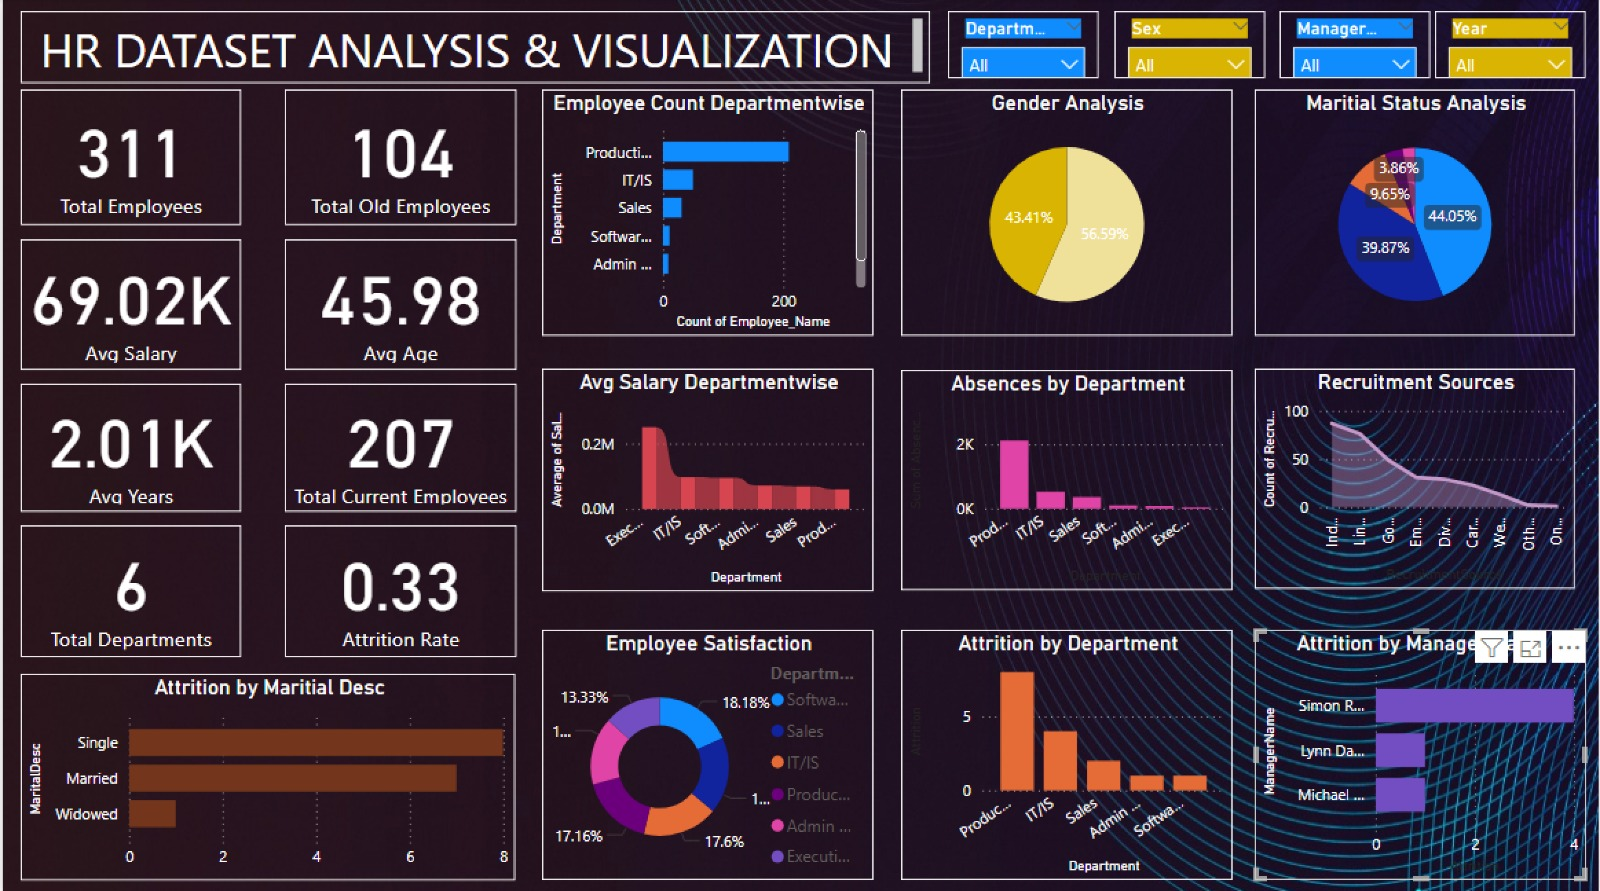

What the dashboard file says about the page in this screenshot:
{"tool":"powerbi","page":{"name":"Page 1","canvas":[1280,720],"ordinal":0},"visuals":[{"type":"textbox","box":[14.8,10.3,730.2,57.6],"z":0},{"type":"card","fields":{"Values":["AllEmployees.Total Employees"]},"box":[14.8,72.4,177.4,109.4],"z":1000},{"type":"card","fields":{"Values":["AllEmployees.Total Old Employees"]},"box":[226.1,72.4,186.2,109.4],"z":2000},{"type":"card","fields":{"Values":["AllEmployees.Avg Salary"]},"box":[14.8,193.6,177.4,104.9],"z":3000},{"type":"card","fields":{"Values":["AllEmployees.Avg Years"]},"box":[14.8,308.9,177.4,103.5],"z":4000},{"type":"card","fields":{"Values":["AllEmployees.Avg Age"]},"box":[226.1,193.6,186.2,104.9],"z":5000},{"type":"card","fields":{"Values":["AllEmployees.Total Current Employees"]},"box":[226.1,308.9,186.2,103.5],"z":6000},{"type":"card","fields":{"Values":["AllEmployees.Attrition Rate"]},"box":[226.1,422.7,186.2,106.4],"z":7000},{"type":"card","fields":{"Values":["AllEmployees.Total Departments"]},"box":[14.8,422.7,177.4,106.4],"z":8000},{"type":"clusteredBarChart","title":"Employee Count Departmentwise","fields":{"Category":["AllEmployees.Department"],"Y":["AllEmployees.Employee_Name"]},"box":[433.1,72.4,266.1,198.1],"z":9000},{"type":"pieChart","title":"Gender Analysis","fields":{"Category":["AllEmployees.Sex"],"Y":["AllEmployees.Sex"]},"box":[721.3,72.4,266.1,198.1],"z":10000},{"type":"pieChart","title":"Maritial Status Analysis","fields":{"Category":["AllEmployees.MaritalDesc"],"Y":["AllEmployees.MaritalDesc"]},"box":[1005.1,72.4,257.2,198.1],"z":10001},{"type":"ribbonChart","title":"Avg Salary Departmentwise","fields":{"Category":["AllEmployees.Department"],"Y":["AllEmployees.Salary"]},"box":[433.1,297.1,266.1,178.8],"z":10002},{"type":"clusteredColumnChart","title":"Absences by Department","fields":{"Category":["AllEmployees.Department"],"Y":["AllEmployees.Absences"]},"box":[721.3,298.6,266.1,177.4],"z":10003},{"type":"stackedAreaChart","title":"Recruitment Sources","fields":{"Category":["AllEmployees.RecruitmentSource"],"Y":["AllEmployees.RecruitmentSource"]},"box":[1005.1,297.1,257.2,177.4],"z":10004},{"type":"donutChart","title":"Employee Satisfaction","fields":{"Category":["AllEmployees.Department"],"Y":["AllEmployees.EmpSatisfaction"]},"box":[433.1,507,266.1,201],"z":10005},{"type":"columnChart","title":"Attrition by Department","fields":{"Category":["AllEmployees.Department"],"Y":["AllEmployees.Attrition"]},"box":[721.3,507,266.1,201],"z":10006},{"type":"columnChart","title":"Attrition by Manager Name","fields":{"Y":["AllEmployees.Attrition"],"Category":["AllEmployees.ManagerName"]},"box":[1005.1,507,266.1,201],"z":10007},{"type":"barChart","title":"Attrition by Maritial Desc","fields":{"Y":["AllEmployees.Attrition"],"Category":["AllEmployees.MaritalDesc"]},"box":[14.9,542.2,397.4,165.9],"z":10008},{"type":"slicer","title":"Maritial Status Analysis","fields":{"Values":["AllEmployees.Department"]},"box":[758.8,9.9,121.3,54.5],"z":10009},{"type":"slicer","title":"Maritial Status Analysis","fields":{"Values":["AllEmployees.ManagerName"]},"box":[1025,9.9,121.3,54.5],"z":10010},{"type":"slicer","title":"Maritial Status Analysis","fields":{"Values":["AllEmployees.Sex"]},"box":[892.5,9.9,121.3,54.5],"z":10011},{"type":"slicer","title":"Maritial Status Analysis","fields":{"Values":["AllEmployees.Department"]},"box":[1150,9.9,121.3,54.5],"z":10012}]}

Visuals, with their boxes in screenshot pixels (x1, y1, x2, y2), scaled from the page's 1280x720 canvas onto the 1600x891 screenshot:
textbox: {"left": 18, "top": 13, "right": 931, "bottom": 84}
card - AllEmployees.Total Employees: {"left": 18, "top": 90, "right": 240, "bottom": 225}
card - AllEmployees.Total Old Employees: {"left": 283, "top": 90, "right": 515, "bottom": 225}
card - AllEmployees.Avg Salary: {"left": 18, "top": 240, "right": 240, "bottom": 369}
card - AllEmployees.Avg Years: {"left": 18, "top": 382, "right": 240, "bottom": 510}
card - AllEmployees.Avg Age: {"left": 283, "top": 240, "right": 515, "bottom": 369}
card - AllEmployees.Total Current Employees: {"left": 283, "top": 382, "right": 515, "bottom": 510}
card - AllEmployees.Attrition Rate: {"left": 283, "top": 523, "right": 515, "bottom": 655}
card - AllEmployees.Total Departments: {"left": 18, "top": 523, "right": 240, "bottom": 655}
"Employee Count Departmentwise" clusteredBarChart: {"left": 541, "top": 90, "right": 874, "bottom": 335}
"Gender Analysis" pieChart: {"left": 902, "top": 90, "right": 1234, "bottom": 335}
"Maritial Status Analysis" pieChart: {"left": 1256, "top": 90, "right": 1578, "bottom": 335}
"Avg Salary Departmentwise" ribbonChart: {"left": 541, "top": 368, "right": 874, "bottom": 589}
"Absences by Department" clusteredColumnChart: {"left": 902, "top": 370, "right": 1234, "bottom": 589}
"Recruitment Sources" stackedAreaChart: {"left": 1256, "top": 368, "right": 1578, "bottom": 587}
"Employee Satisfaction" donutChart: {"left": 541, "top": 627, "right": 874, "bottom": 876}
"Attrition by Department" columnChart: {"left": 902, "top": 627, "right": 1234, "bottom": 876}
"Attrition by Manager Name" columnChart: {"left": 1256, "top": 627, "right": 1589, "bottom": 876}
"Attrition by Maritial Desc" barChart: {"left": 19, "top": 671, "right": 515, "bottom": 876}
"Maritial Status Analysis" slicer: {"left": 948, "top": 12, "right": 1100, "bottom": 80}
"Maritial Status Analysis" slicer: {"left": 1281, "top": 12, "right": 1433, "bottom": 80}
"Maritial Status Analysis" slicer: {"left": 1116, "top": 12, "right": 1267, "bottom": 80}
"Maritial Status Analysis" slicer: {"left": 1438, "top": 12, "right": 1589, "bottom": 80}
